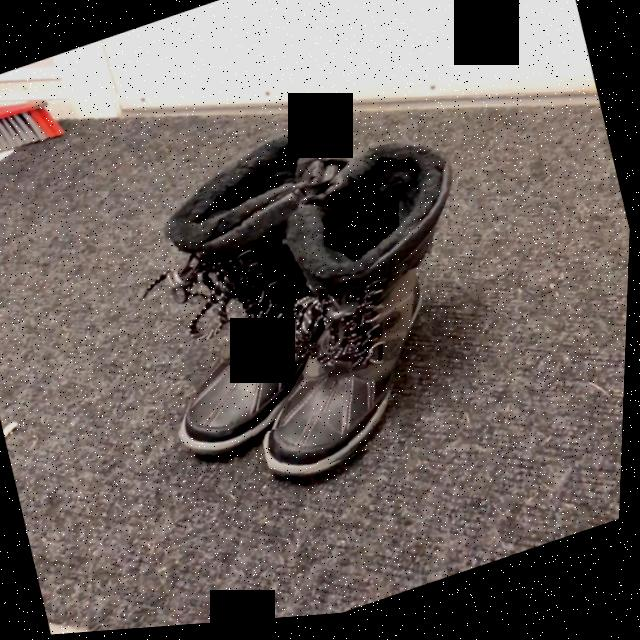shoe: (267, 276, 429, 480), (180, 258, 328, 449)
